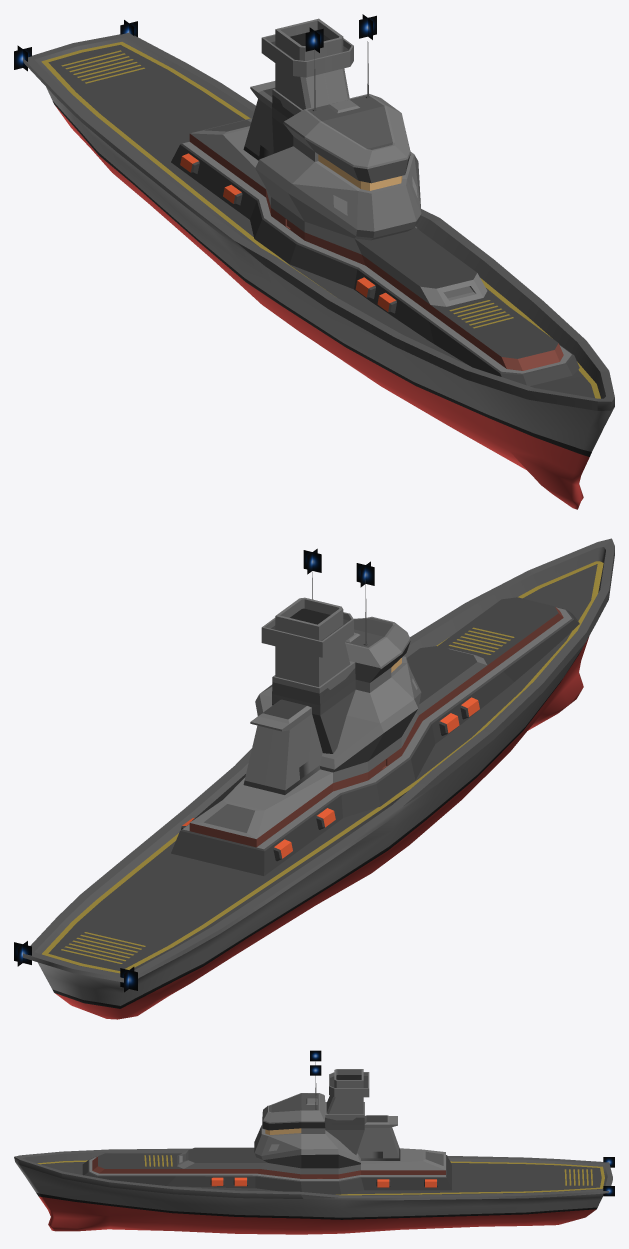
Rendered from model_polyfleet_battleship02.fbx.
3 renders of one model, top to bottom at view 1: azimuth 30°, elevation 25°; view 2: azimuth 150°, elevation 25°; view 3: azimuth 270°, elevation 25°, orthographic. The views are drawn at different scales.
Parts seen in each view (by area): view 1: model_batteship02, emissivelight; view 2: model_batteship02, emissivelight; view 3: model_batteship02, emissivelight.
Boxes of the visible parts, <box> form: model_batteship02: <box>23,18,614,509</box>; emissivelight: <box>14,14,402,190</box>; model_batteship02: <box>23,538,614,1019</box>; emissivelight: <box>14,548,401,992</box>; model_batteship02: <box>14,1062,612,1234</box>; emissivelight: <box>265,1050,614,1196</box>.
Bounding box in the file's own units: 909 × 1574 × 4954.
